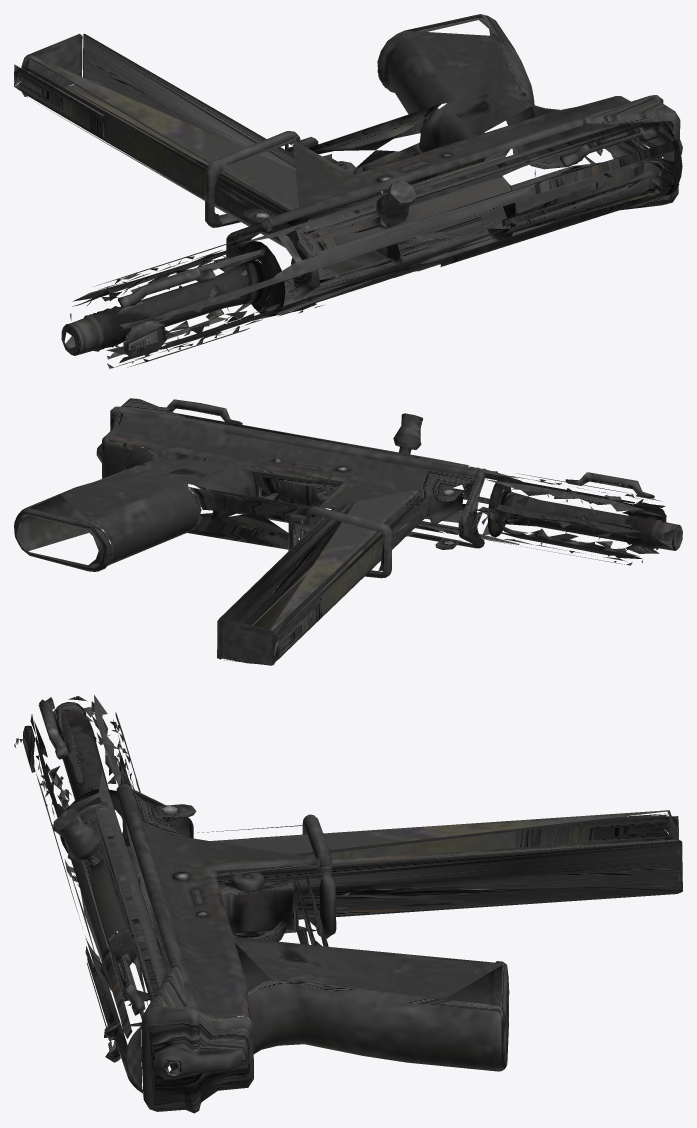
The model's file is w_tec9.glb.
3 renders of one model, top to bottom at view 1: azimuth 30°, elevation 25°; view 2: azimuth 150°, elevation 25°; view 3: azimuth 270°, elevation 25°, orthographic. The views are drawn at different scales.
Visible parts, largest first — view 1: w_tec9; view 2: w_tec9; view 3: w_tec9.
Part boxes in pixels (x1,y1,x2,y2): w_tec9: (14,14,682,368); w_tec9: (14,398,682,665); w_tec9: (14,695,682,1113).
Size of the model in its own units: 0.4129 by 0.0739 by 0.3311.
Materials: 1 (1 with a texture image).
